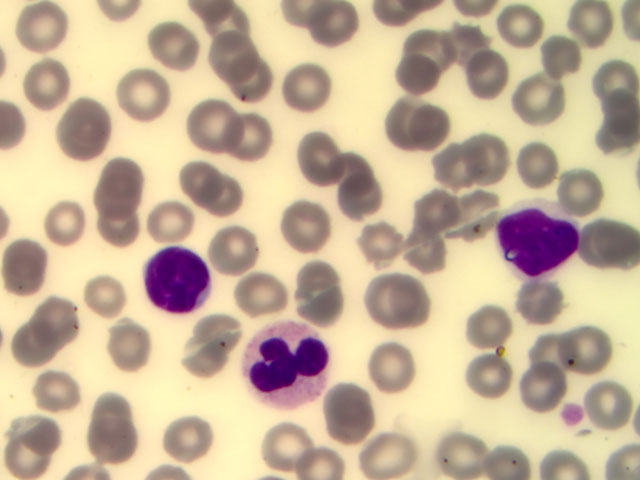Platelets: (558, 401, 582, 426)
RBC: (13, 4, 67, 55), (18, 59, 72, 110), (56, 100, 110, 151), (110, 72, 164, 123), (138, 25, 192, 76), (210, 37, 264, 88), (194, 1, 248, 52), (234, 63, 288, 114), (277, 63, 331, 114), (303, 4, 357, 55), (387, 55, 441, 106), (403, 35, 457, 86), (443, 21, 497, 72), (472, 36, 526, 87), (499, 3, 553, 54), (533, 25, 587, 76), (512, 67, 566, 118), (563, 1, 617, 52), (586, 53, 640, 104), (586, 101, 640, 152), (551, 161, 605, 212), (582, 209, 636, 260), (568, 317, 622, 368), (528, 322, 582, 373), (508, 366, 562, 417), (468, 355, 522, 406), (467, 308, 521, 359), (512, 275, 566, 326), (377, 274, 431, 325), (397, 226, 451, 277), (399, 187, 453, 238), (451, 189, 505, 240), (430, 138, 484, 189), (463, 127, 517, 178), (512, 138, 566, 189), (410, 99, 464, 150), (372, 92, 426, 143), (327, 143, 381, 194), (333, 172, 387, 223), (297, 134, 351, 185), (226, 112, 280, 163), (191, 101, 245, 152), (172, 153, 226, 204), (206, 178, 260, 229), (150, 190, 204, 241), (87, 169, 141, 220), (96, 145, 150, 196), (93, 203, 147, 254), (33, 198, 87, 249), (3, 238, 57, 289), (89, 273, 143, 324), (36, 292, 90, 343), (8, 328, 62, 379), (30, 371, 84, 422), (6, 425, 60, 476), (74, 415, 128, 466), (104, 317, 158, 368), (182, 312, 236, 363), (162, 406, 216, 457), (253, 416, 307, 467), (286, 429, 340, 480), (313, 395, 367, 446), (367, 344, 421, 395), (297, 272, 351, 323), (249, 264, 303, 315), (215, 222, 269, 273), (297, 202, 351, 253), (586, 376, 640, 427), (481, 429, 535, 480), (436, 429, 490, 480), (354, 429, 408, 480)
WBC: (499, 195, 580, 285), (245, 320, 328, 407), (141, 245, 214, 321)
